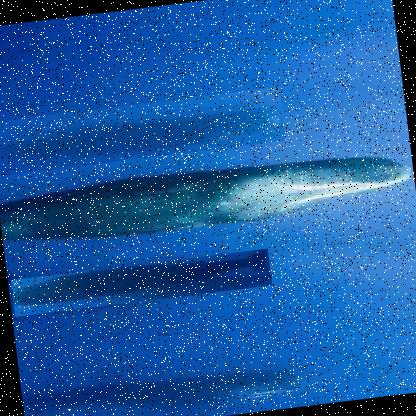sperm_whale: (0, 131, 415, 270), (0, 85, 286, 176), (9, 248, 272, 316)
